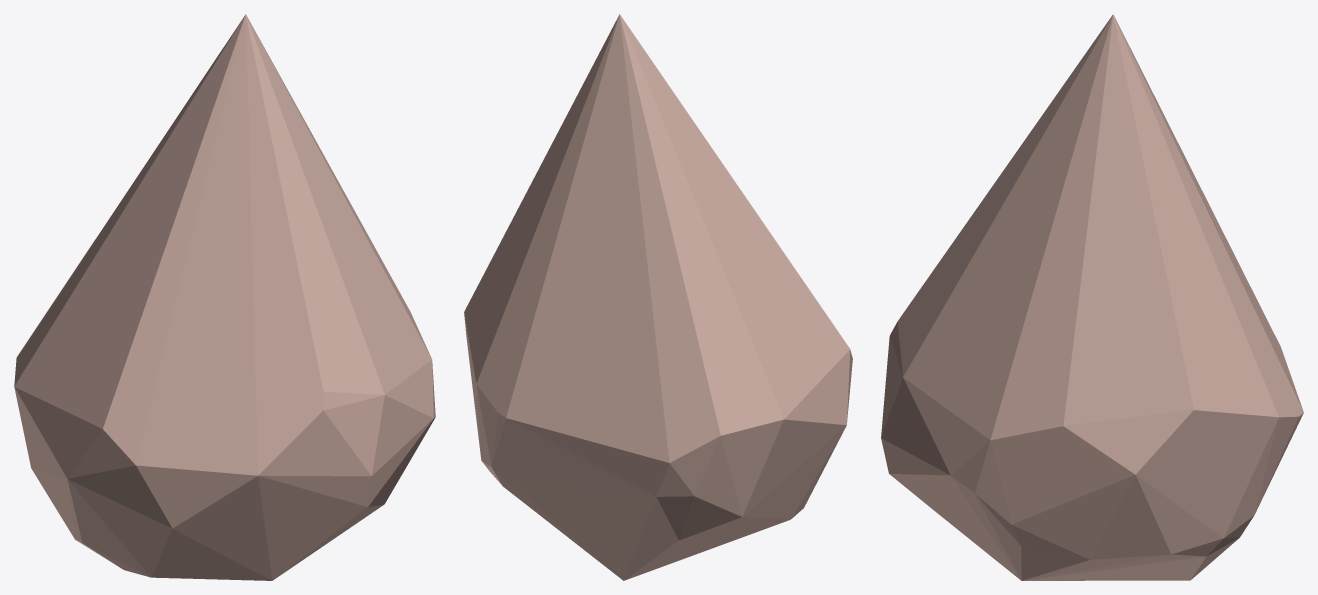
Rendered from food_produce_onion_c01.glb.
The picture shows the model from 3 angles, left to right: view 1: azimuth 30°, elevation 25°; view 2: azimuth 150°, elevation 25°; view 3: azimuth 270°, elevation 25°; orthographic projection. The views are drawn at different scales.
Visible parts, largest first — view 1: geometry_0; view 2: geometry_0; view 3: geometry_0.
Boxes of the visible parts, x1,y1,x2,y2 form: geometry_0: (14, 14, 435, 580); geometry_0: (464, 14, 852, 580); geometry_0: (881, 14, 1303, 580).
Bounding box in the file's own units: 0.2933 × 0.4337 × 0.2829.
